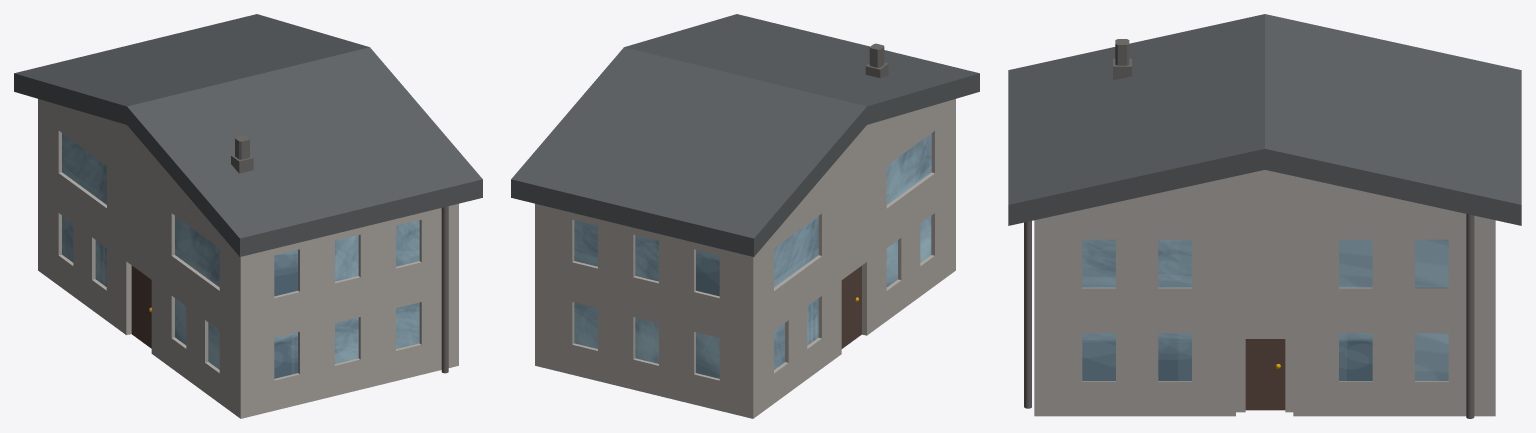
Rendered from TPCS_Hochhause_002_V1.fbx.
3 views of the same model, side by side, from view 1: azimuth 30°, elevation 25°; view 2: azimuth 150°, elevation 25°; view 3: azimuth 270°, elevation 25° (orthographic). The views are drawn at different scales.
Visible parts, largest first — view 1: Cube.259; view 2: Cube.259; view 3: Cube.259.
Boxes of the visible parts, x1,y1,x2,y2 form: Cube.259: (14, 14, 482, 418); Cube.259: (511, 14, 979, 418); Cube.259: (1008, 14, 1521, 418).
Size of the model in its own units: 622 by 593 by 1002.
